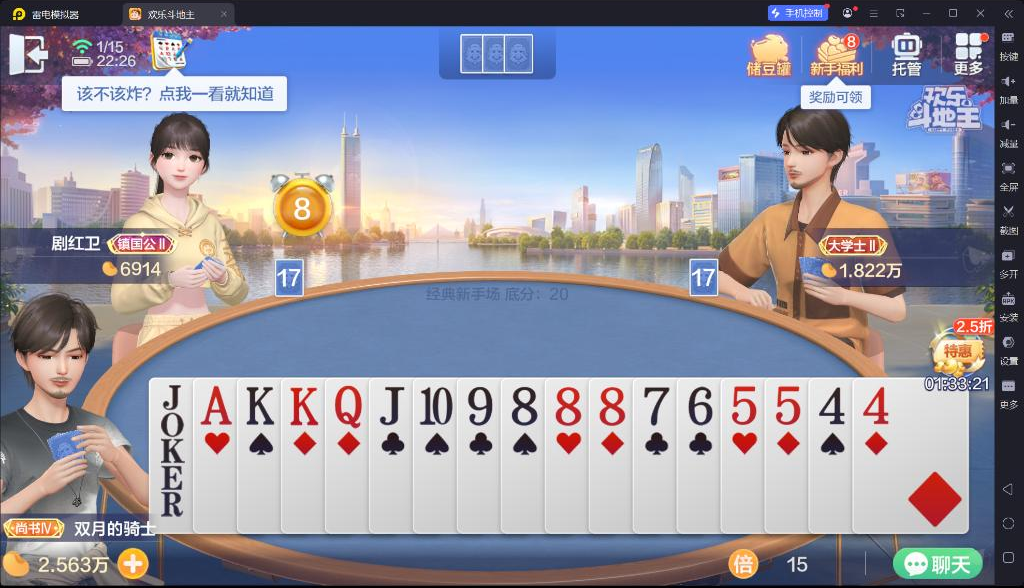A: (199, 382, 234, 426)
J: (377, 383, 405, 427)
K: (285, 384, 323, 427), (241, 383, 277, 428)
Q: (331, 384, 366, 430)
eight: (595, 382, 629, 426), (552, 382, 584, 428), (509, 383, 540, 428)
five: (726, 384, 760, 426), (772, 383, 802, 428)
four: (861, 384, 892, 427), (818, 384, 848, 427)
joker: (157, 382, 187, 467)
nine: (462, 383, 495, 427)
seven: (640, 381, 672, 427)
six: (684, 384, 716, 426)
ten: (418, 384, 454, 427)
